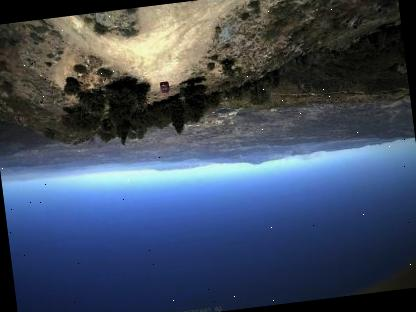smoke: (257, 140, 322, 168)
